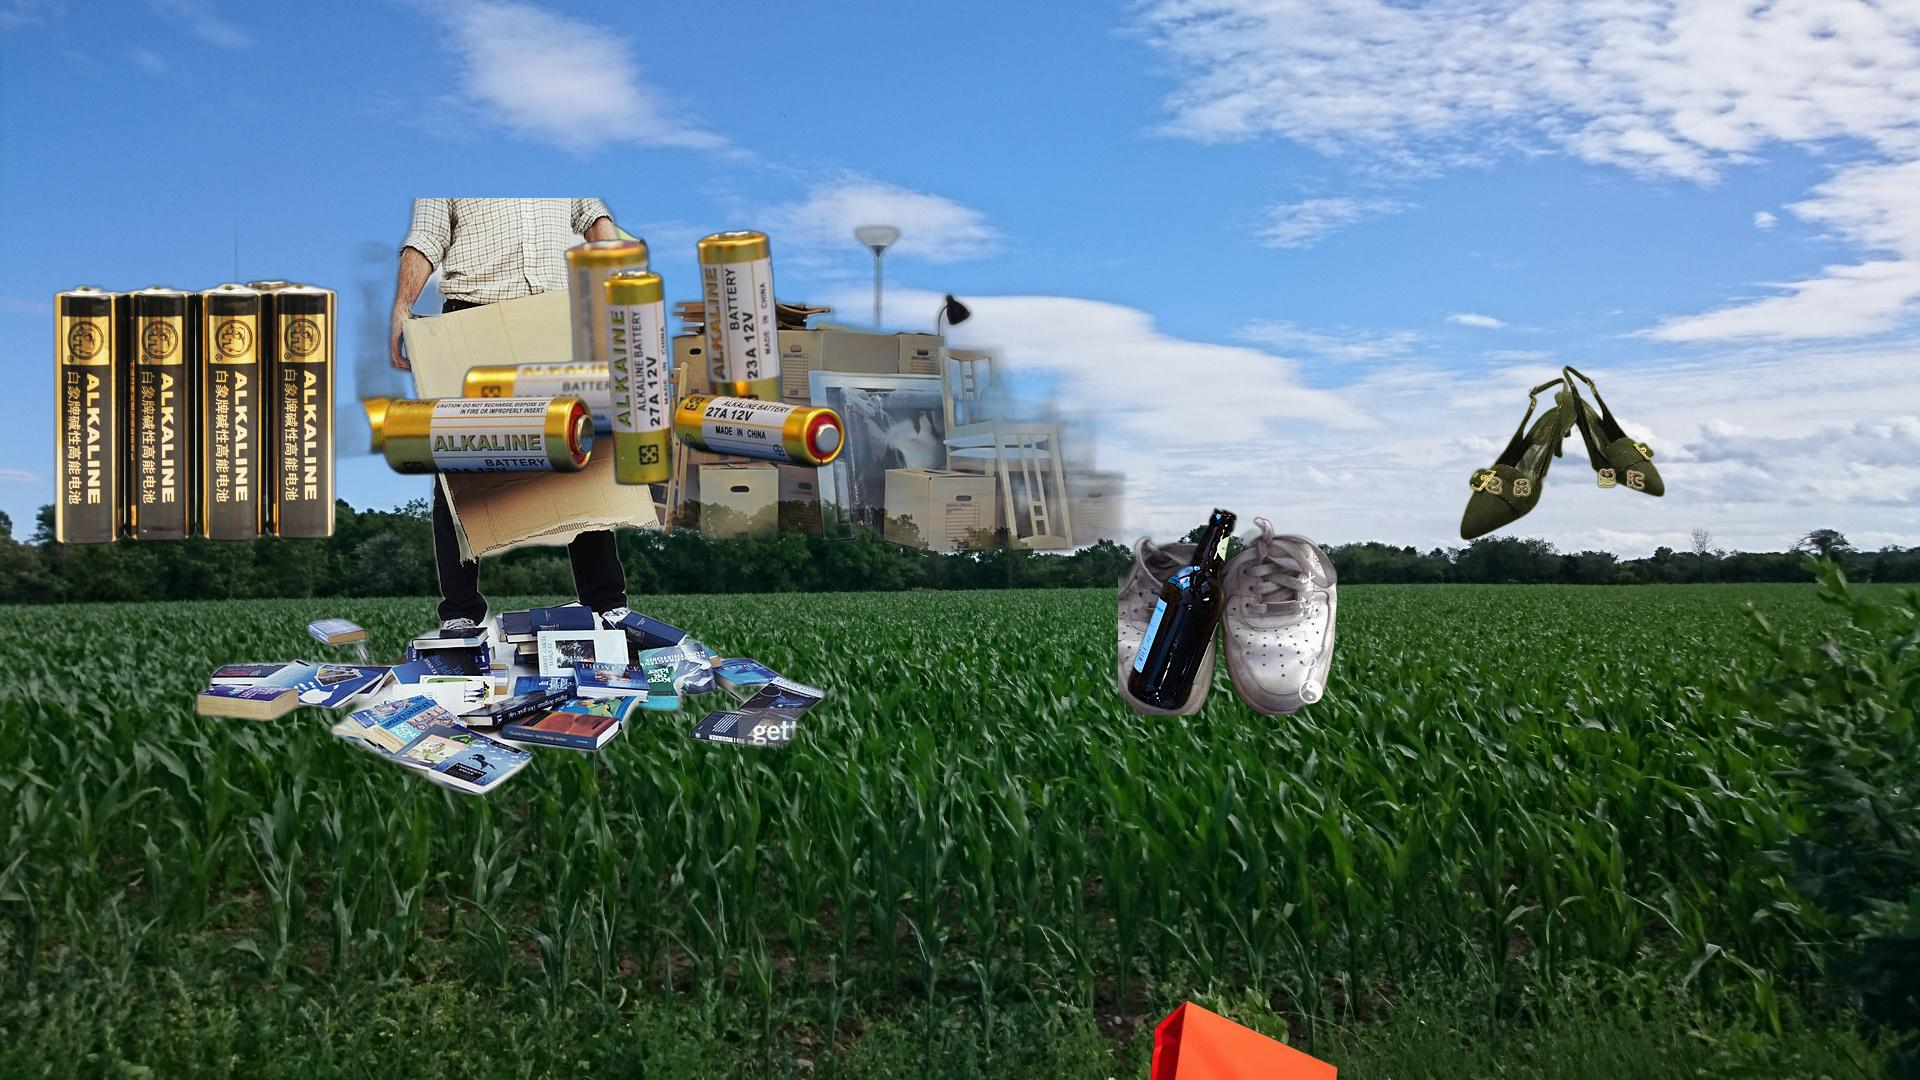battery: (235, 164, 852, 593), (50, 280, 342, 549)
glass: (1124, 502, 1242, 716)
metal-cans: (439, 214, 811, 347)
paper-bag: (1145, 997, 1340, 1080)
shoes: (1118, 491, 1341, 715), (1456, 363, 1667, 545)
trashbox-cardboard: (186, 198, 1137, 803)
